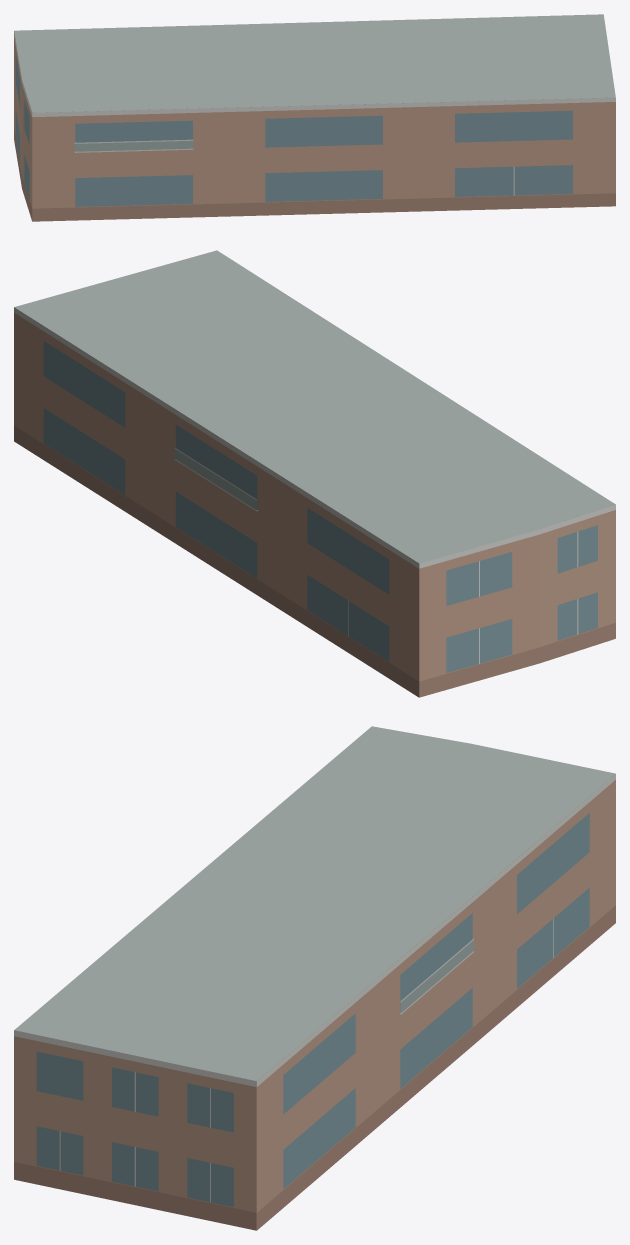
File: survey-upis-32897943.glb
The picture shows the model from 3 angles, top to bottom: view 1: azimuth 30°, elevation 25°; view 2: azimuth 150°, elevation 25°; view 3: azimuth 270°, elevation 25°; orthographic projection. The views are drawn at different scales.
Parts seen in each view (by area): view 1: survey-upis-32897943.tmp; view 2: survey-upis-32897943.tmp; view 3: survey-upis-32897943.tmp.
Boxes of the visible parts, box(x1,y1,x2,y2) form: survey-upis-32897943.tmp: box(14, 14, 615, 221); survey-upis-32897943.tmp: box(14, 250, 615, 697); survey-upis-32897943.tmp: box(14, 726, 615, 1230).
Bounding box in the file's own units: 31.08 × 6.1 × 22.27.
